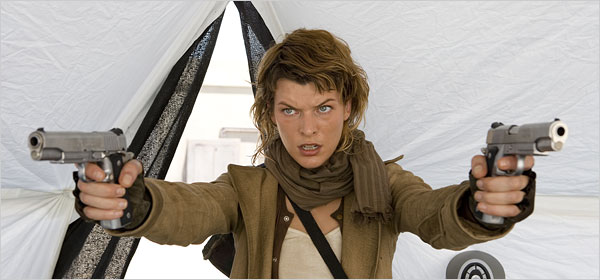gun: (23, 125, 137, 232), (472, 116, 570, 230)
